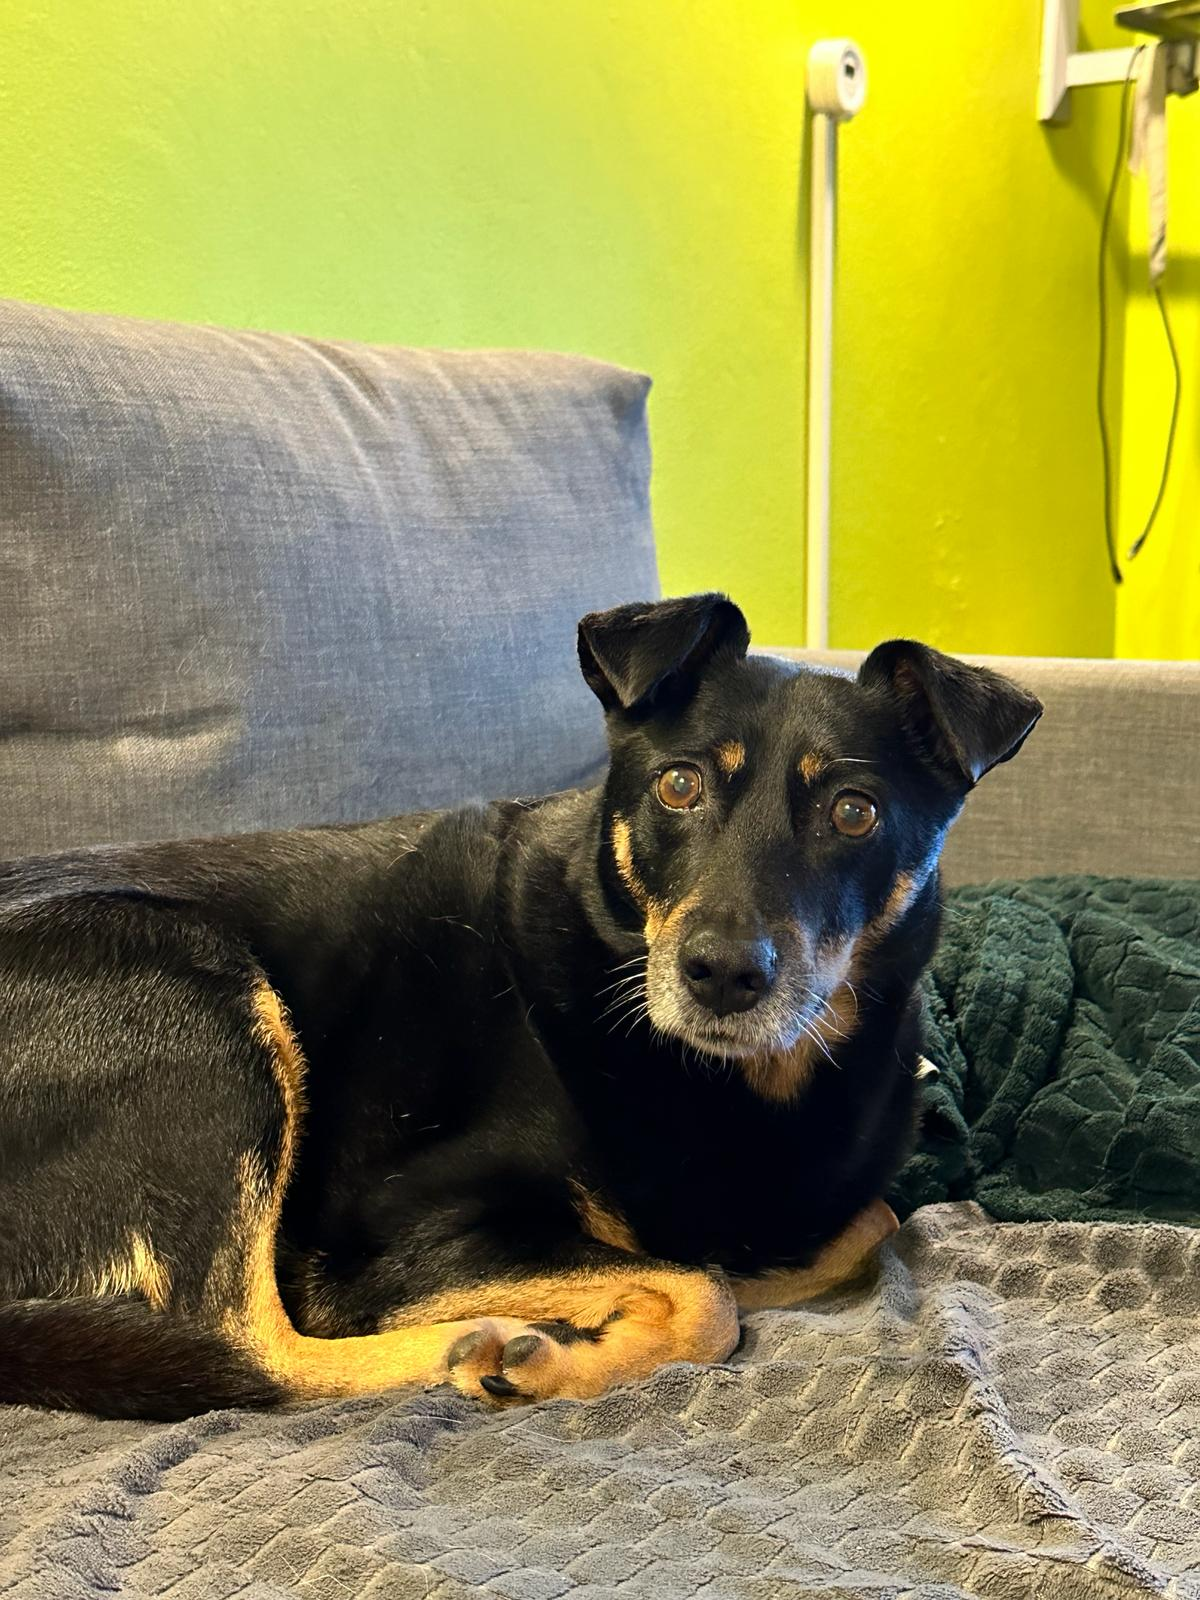reksio: (405, 567, 1080, 1267)
